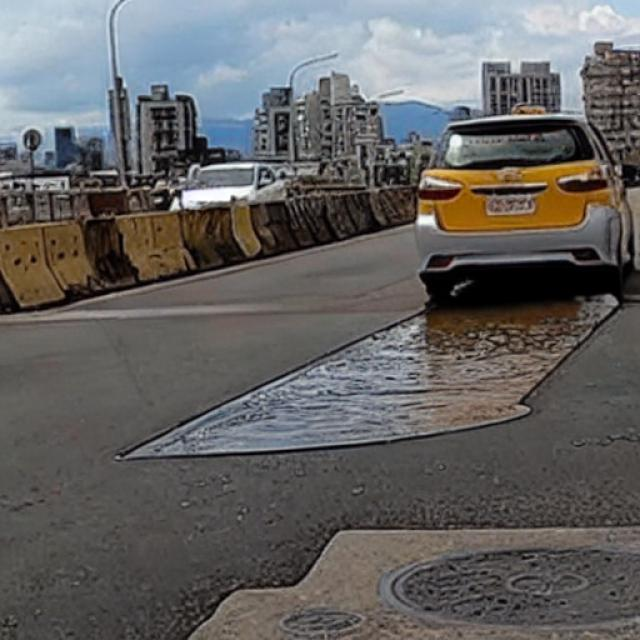puddle: (125, 292, 622, 457)
